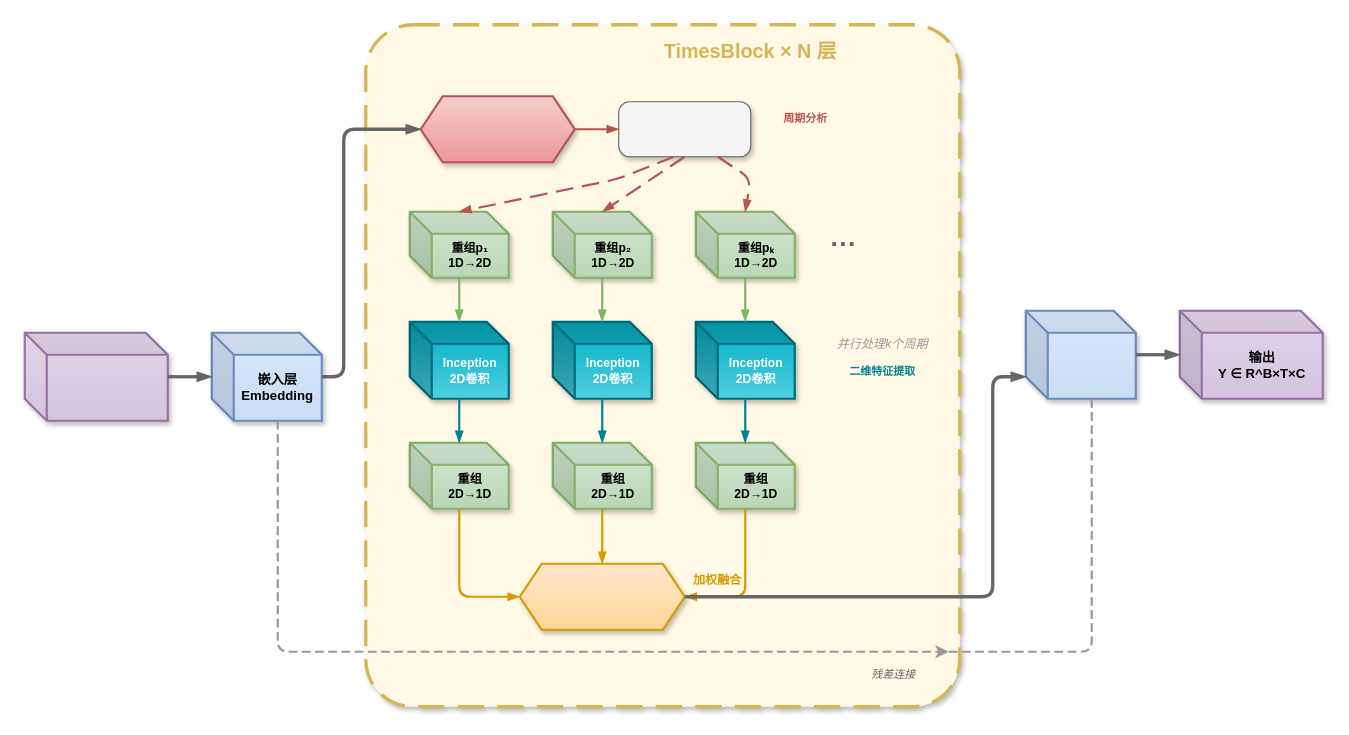
Image size: 1349x735. Some labels were removed from this diagram. The centre of each missing label's shape, as x and y in pixels:
FFT 周期发现 模块: point 498,130
Top-k 周期 {p₁, p₂, ..., pₖ}: point 685,130
投影层 Projection: point 1081,356
自适应聚合 Σ softmax(Aₖ) · Xₖ: point 603,598
输入时序 X ∈ R^B×T×C: point 97,378
